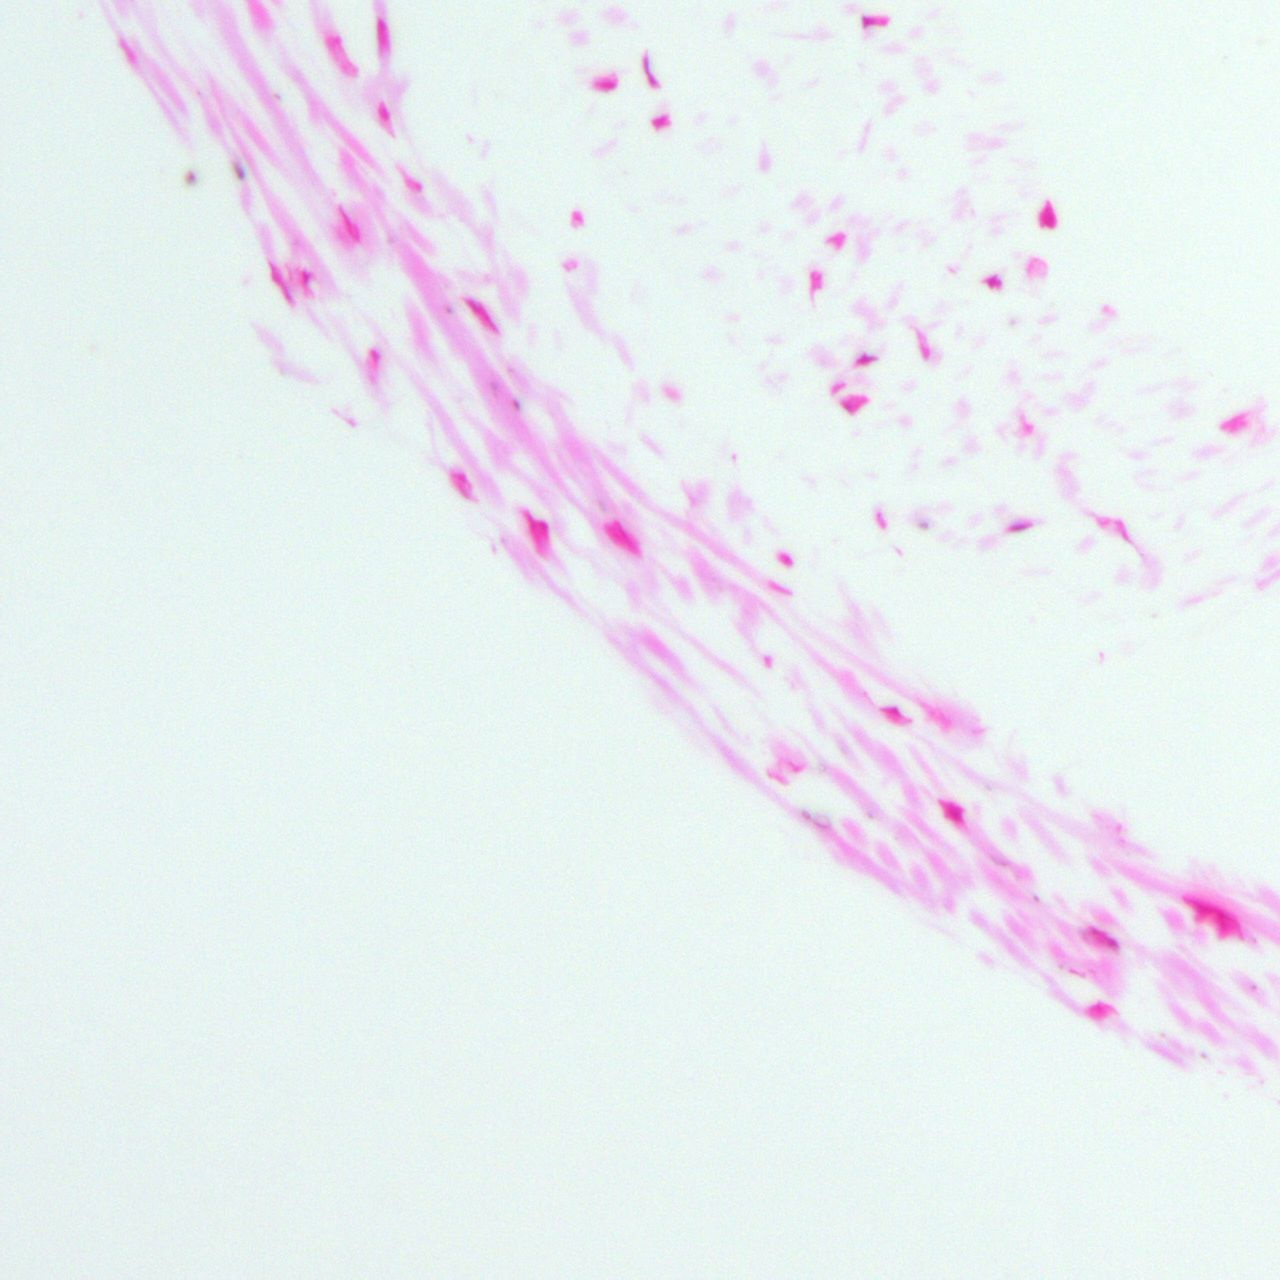dust: (800, 808, 830, 834), (230, 162, 245, 180), (184, 173, 198, 185), (510, 398, 521, 411), (917, 521, 928, 530), (1032, 893, 1038, 902), (866, 812, 873, 819), (1159, 1032, 1166, 1038), (445, 307, 452, 312), (1201, 1052, 1206, 1058), (1251, 985, 1257, 990)
nucleus-FG: (1183, 894, 1233, 924), (466, 296, 498, 335), (266, 264, 295, 304), (636, 49, 660, 89), (1090, 926, 1119, 949), (337, 206, 359, 236), (521, 508, 540, 539), (614, 521, 634, 548), (1112, 516, 1131, 544), (374, 102, 393, 124), (376, 17, 386, 57), (943, 803, 961, 820), (1043, 200, 1053, 230), (1008, 520, 1030, 532), (828, 233, 846, 247), (855, 354, 874, 367), (369, 349, 380, 371), (810, 272, 821, 293), (840, 399, 854, 415), (881, 704, 901, 715), (301, 270, 311, 289), (324, 37, 342, 47), (652, 116, 668, 127), (987, 276, 999, 288), (539, 520, 548, 535), (780, 555, 792, 566), (859, 16, 871, 27), (1090, 1004, 1106, 1012), (601, 81, 615, 90)
